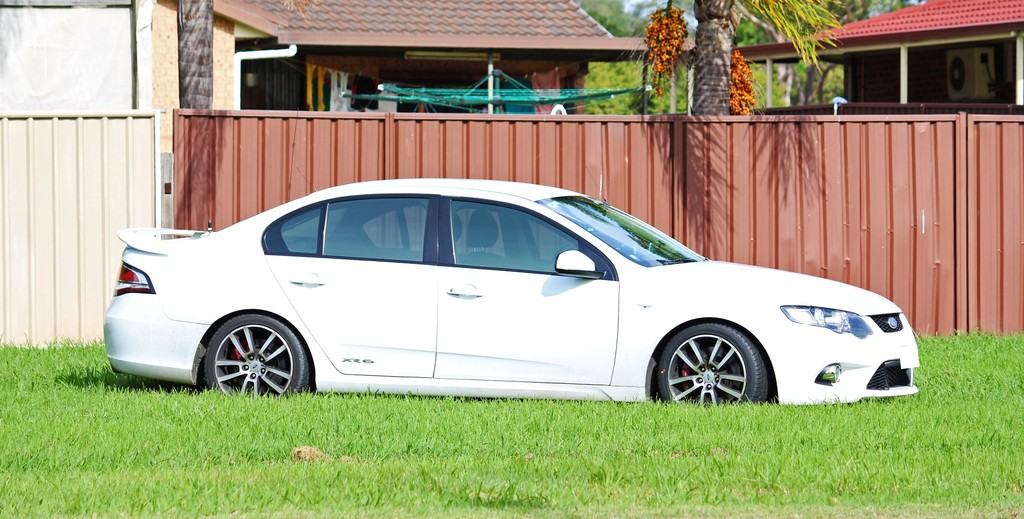Car: (102, 179, 915, 410)
